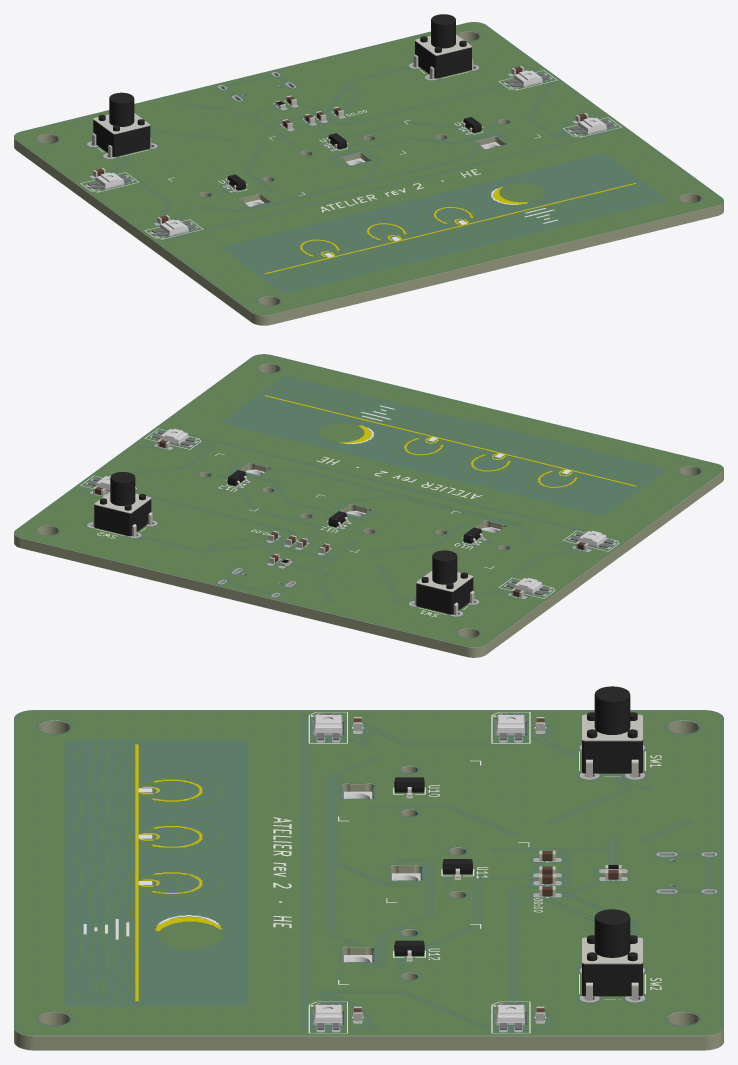
File: atelier6k-he.glb
3 renders of one model, top to bottom at view 1: azimuth 30°, elevation 25°; view 2: azimuth 150°, elevation 25°; view 3: azimuth 270°, elevation 25°, orthographic. The views are drawn at different scales.
Parts seen in each view (by area): view 1: board; view 2: board; view 3: board.
Boxes of the visible parts, x1=… form: board: x1=14, y1=14, x2=723, y2=325; board: x1=14, y1=354, x2=723, y2=657; board: x1=14, y1=686, x2=723, y2=1050.
Size of the model in its own units: 0.076 by 0.0108 by 0.07.
